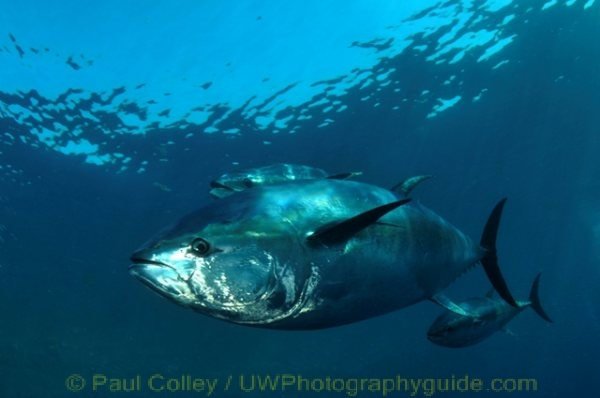Bluefina Tuna: (126, 170, 544, 322), (424, 285, 552, 351)
